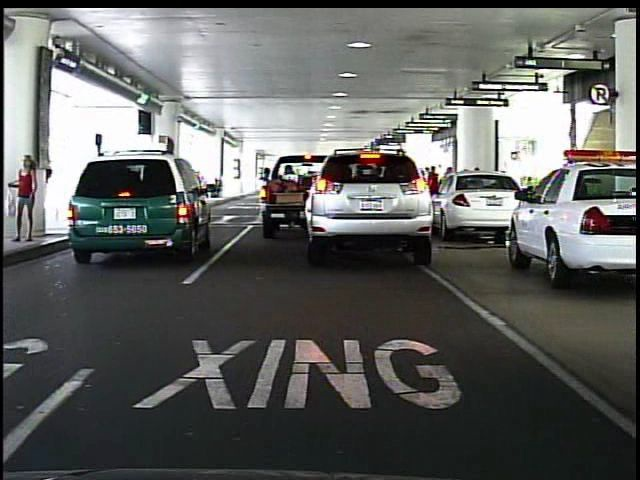person: (17, 150, 48, 247)
